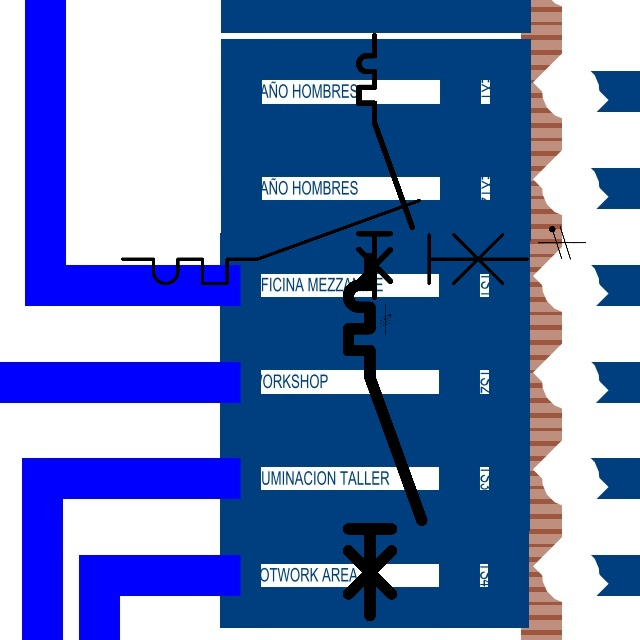interruptor_termomagnetico: (112, 190, 537, 294), (339, 249, 431, 624), (352, 29, 419, 304)
